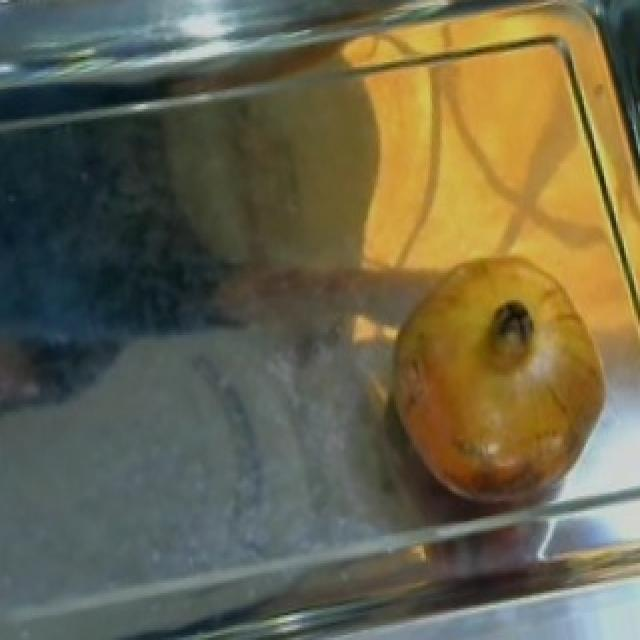fruit: (364, 226, 634, 501)
